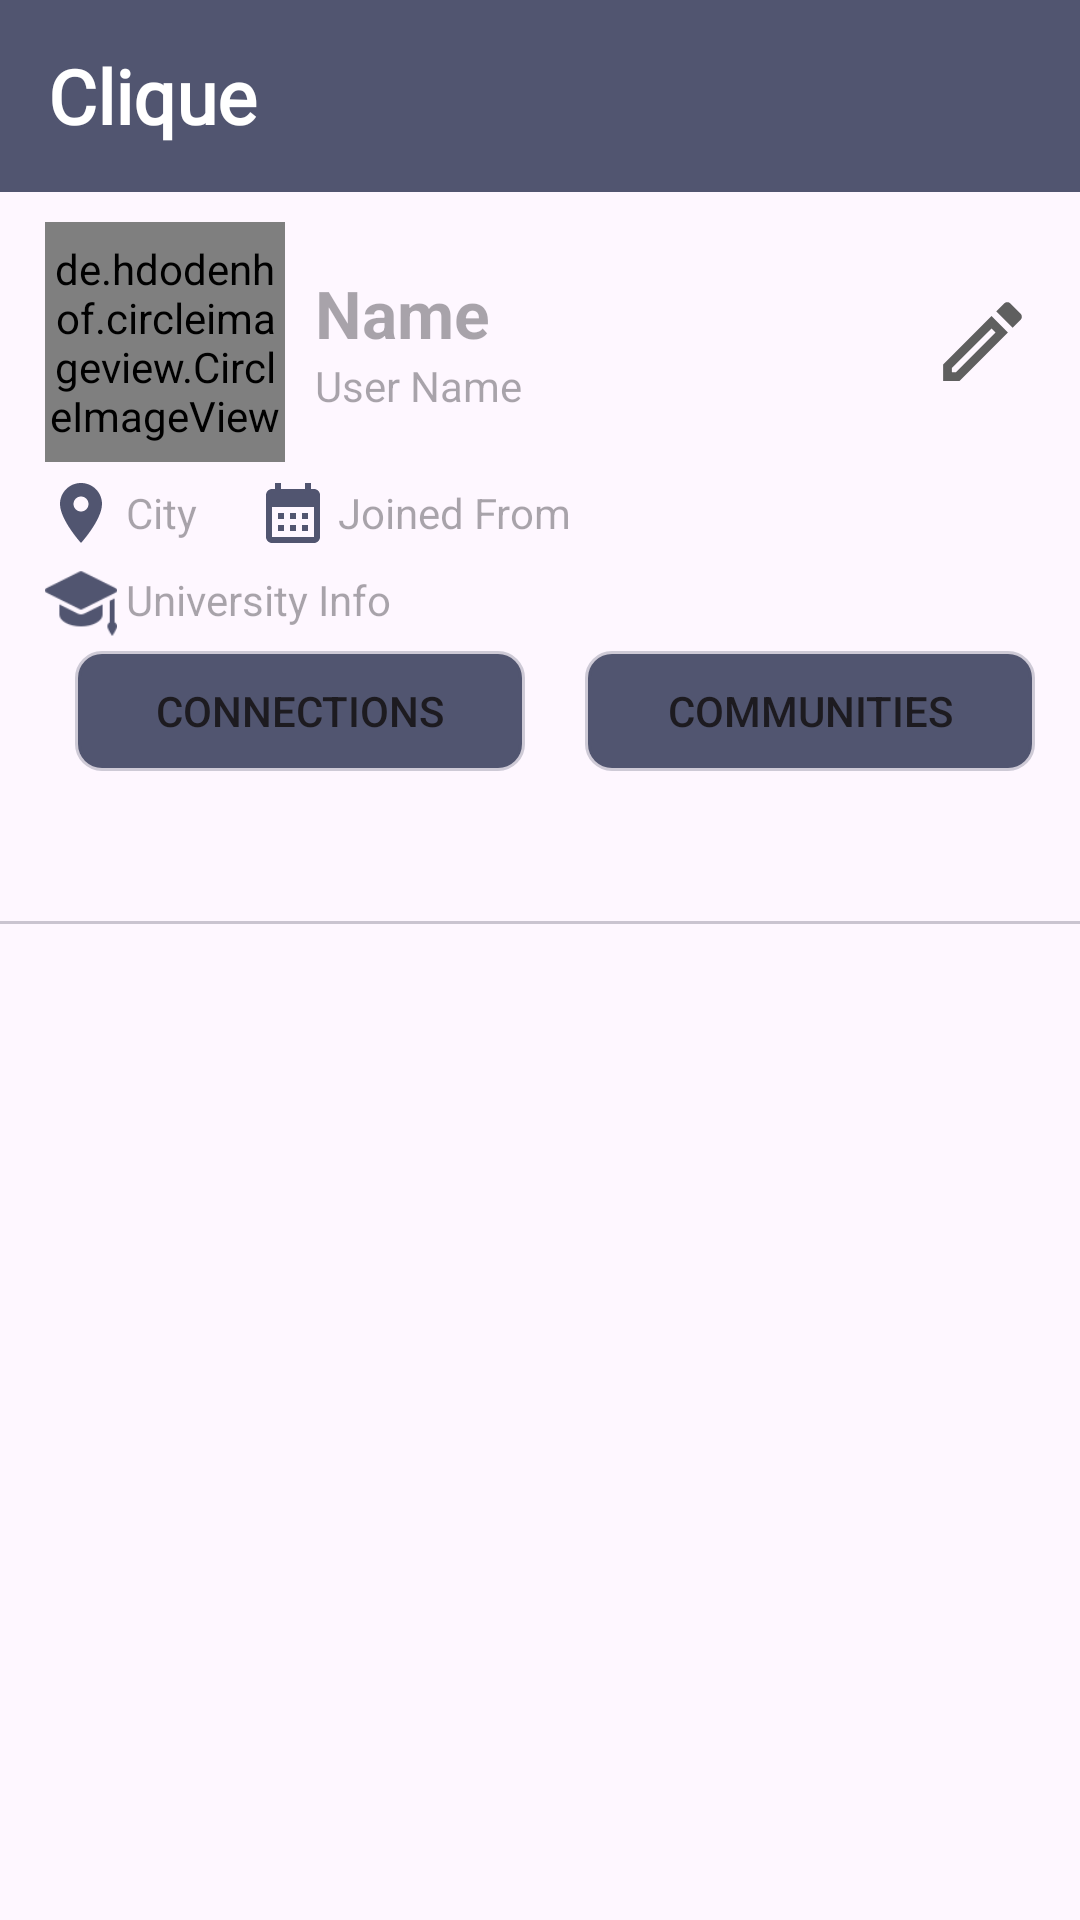

Screen size 1080px x 1920px. Icon name, then its center in pixels as point (x, y):
edit: point (982, 341)
education: point (81, 603)
join date: point (293, 513)
location: point (81, 513)
